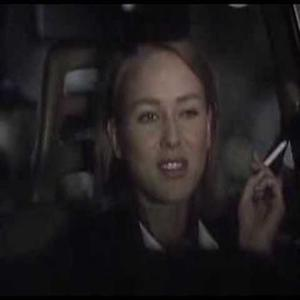cigarette: (261, 140, 289, 170)
